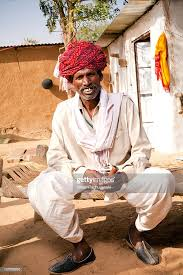Indian_Male: (71, 65, 104, 99)
